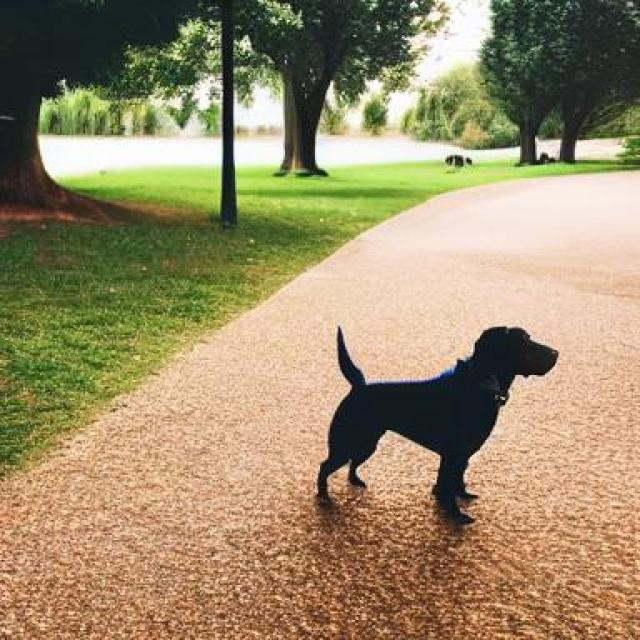Dog: (316, 326, 559, 524)
